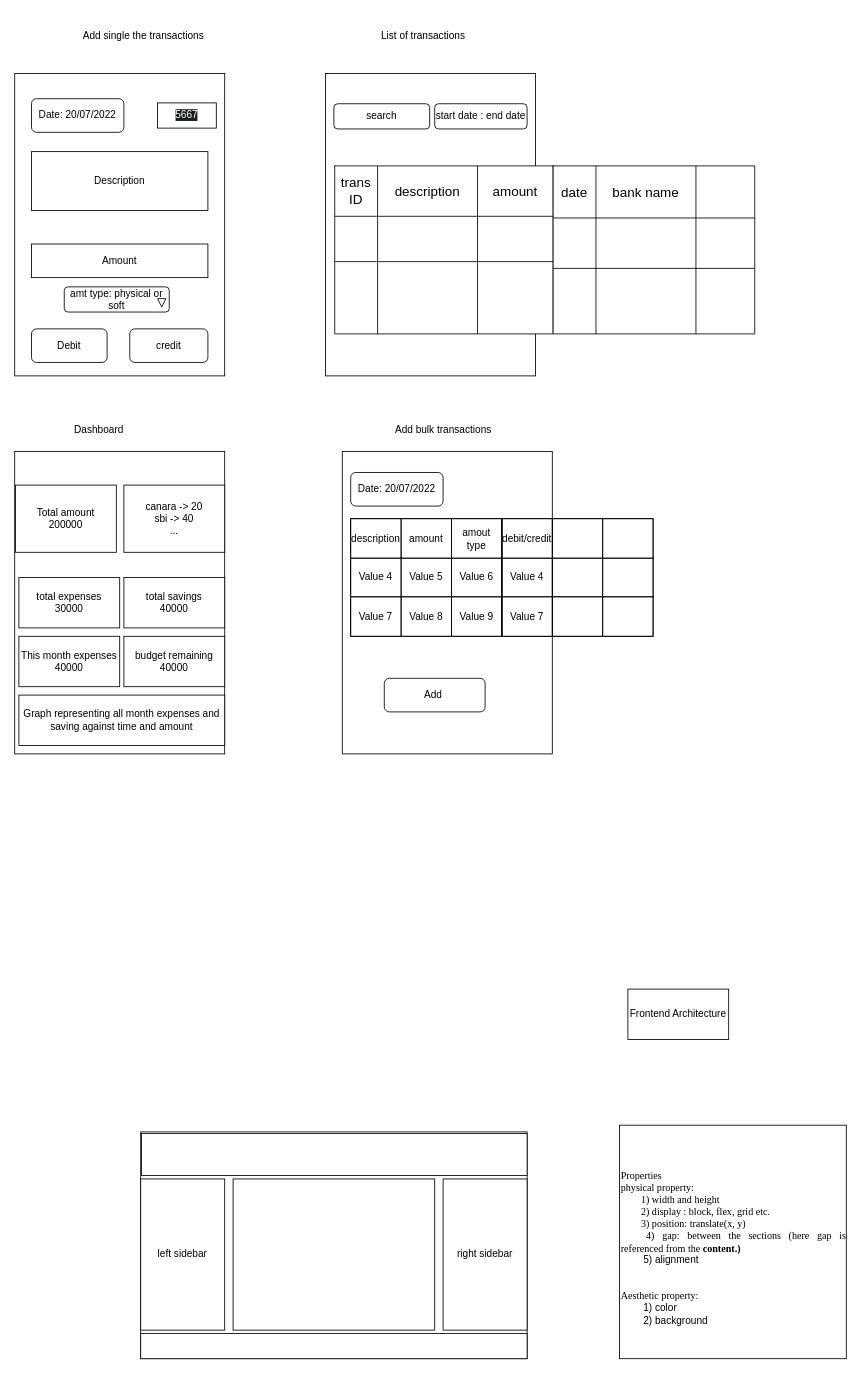
The diagram is 861 pixels wide and 1373 high, and some of its shapes have lost their labels. Each missing label, with the centre of its shape:
"content" belongs at (x=333, y=1254).
"footer" belongs at (x=333, y=1346).
"header" belongs at (x=334, y=1154).
